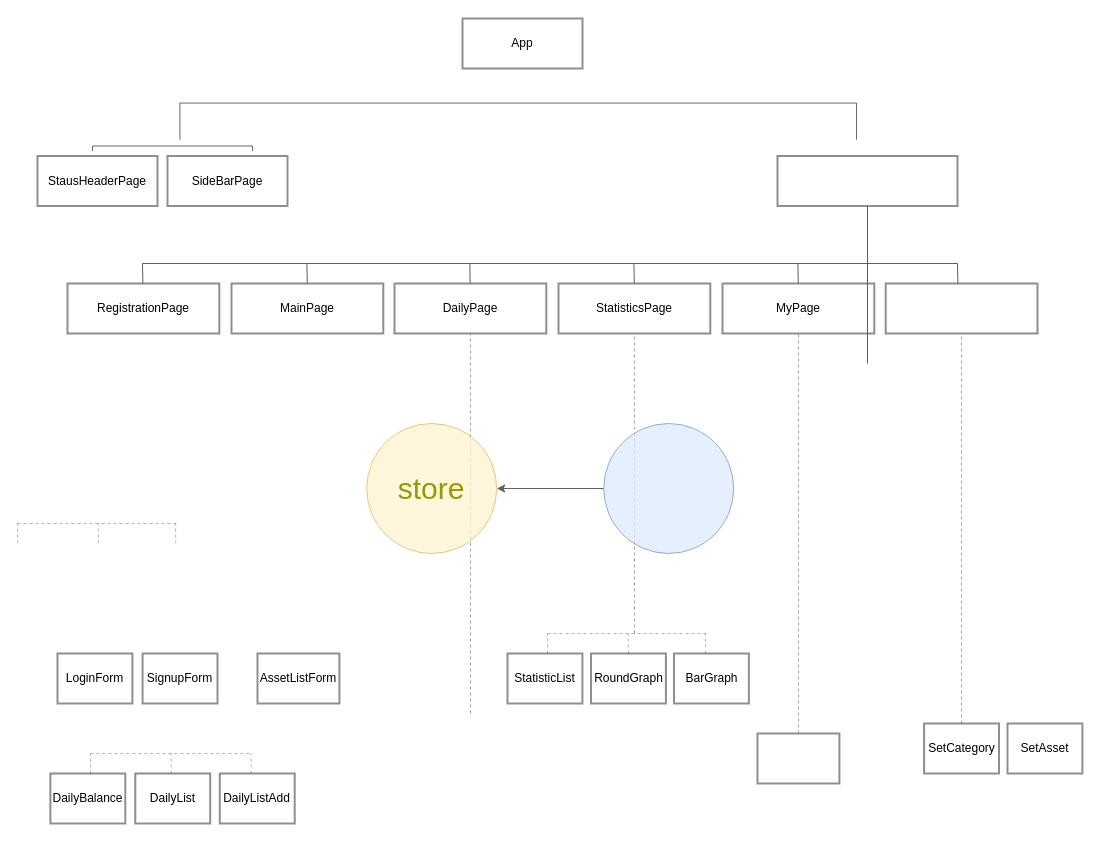
This 1101x841 diagram has some shape labels left out. The box of each missing label's shape, as (x1, y1, x2, y2) in pixels:
cookies: (603, 422, 734, 554)
MyInfoForm: (756, 732, 840, 784)
router-view: (776, 154, 958, 206)
SettingPage: (884, 282, 1038, 334)
